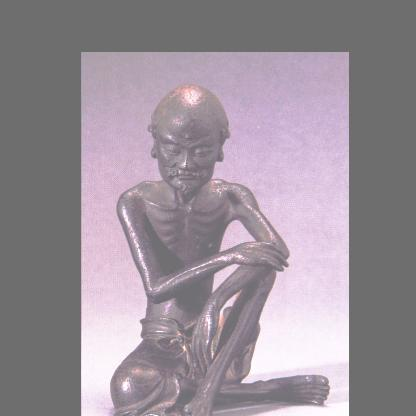buddha-sitting: (111, 75, 320, 416)
